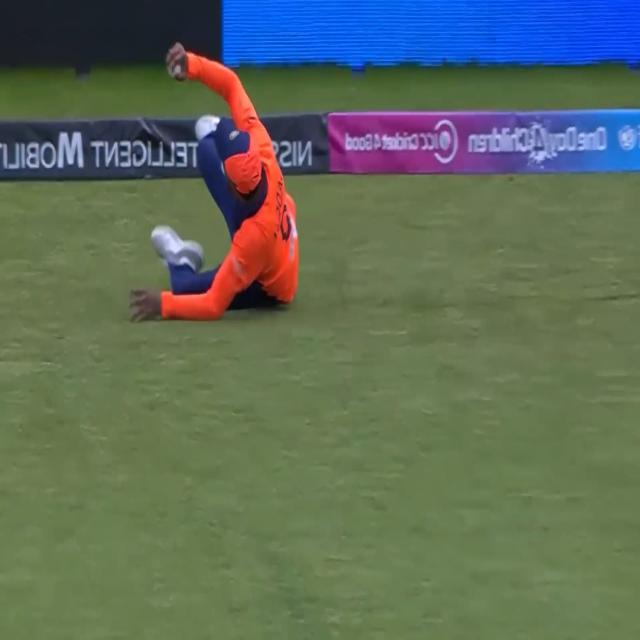ball: (165, 54, 181, 84)
